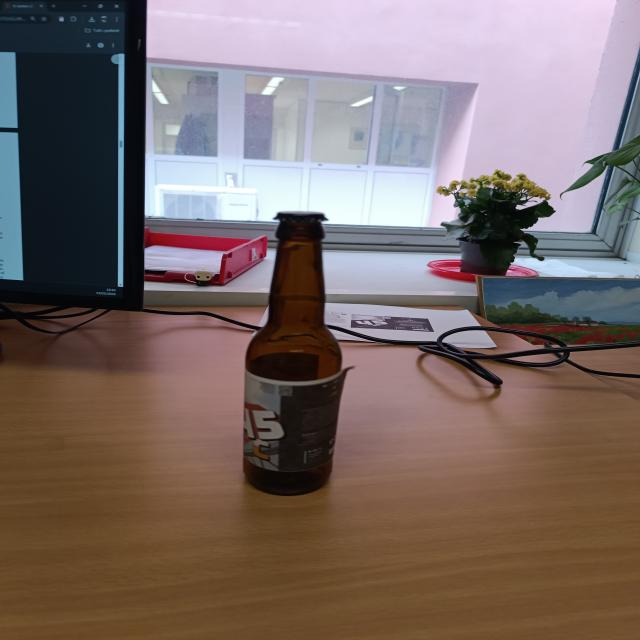Bottle: (241, 207, 339, 495)
Cap: (266, 207, 334, 226)
Label: (244, 366, 338, 472)
